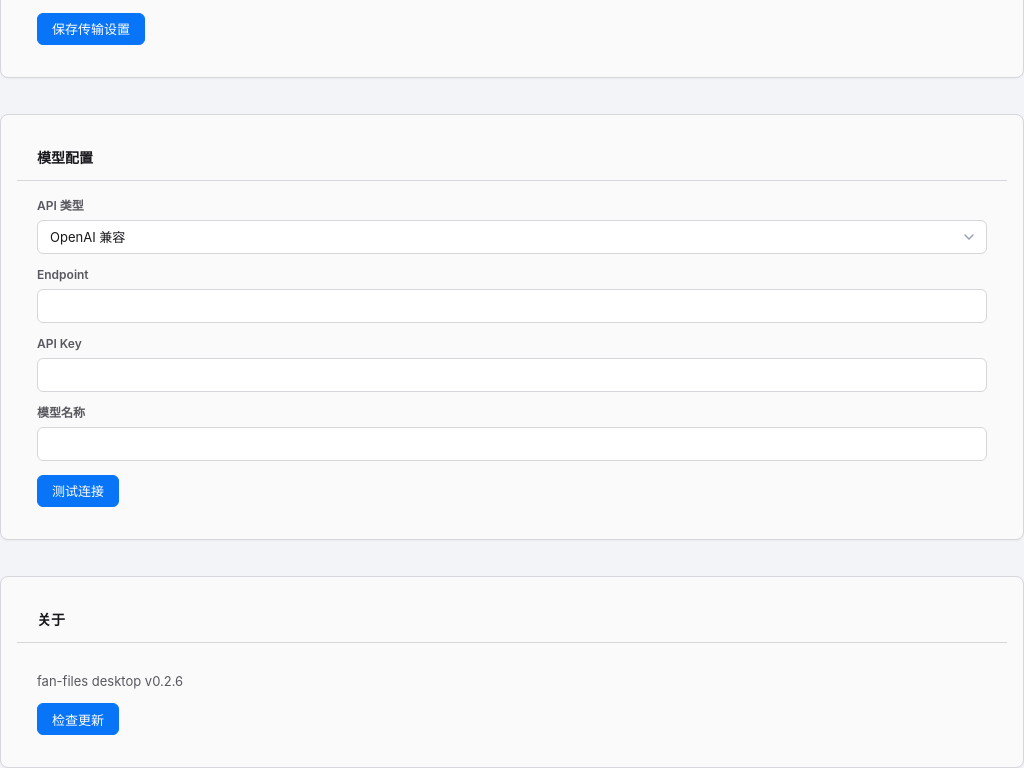
Test: SettingsPage › shows 连接失败 when test_connection returns false
(page scrolled)
Click the button "测试连接": (78, 490) [37,474,119,506]
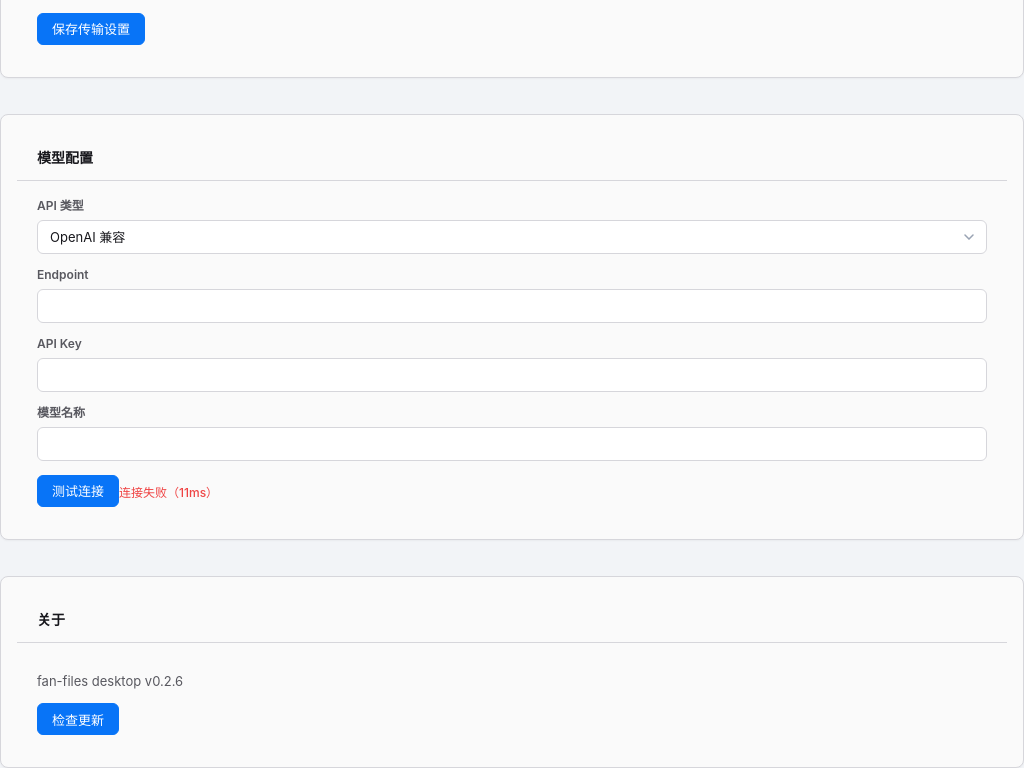
Result: the text "连接失败（11ms）" is shown at [119,484,218,499]
